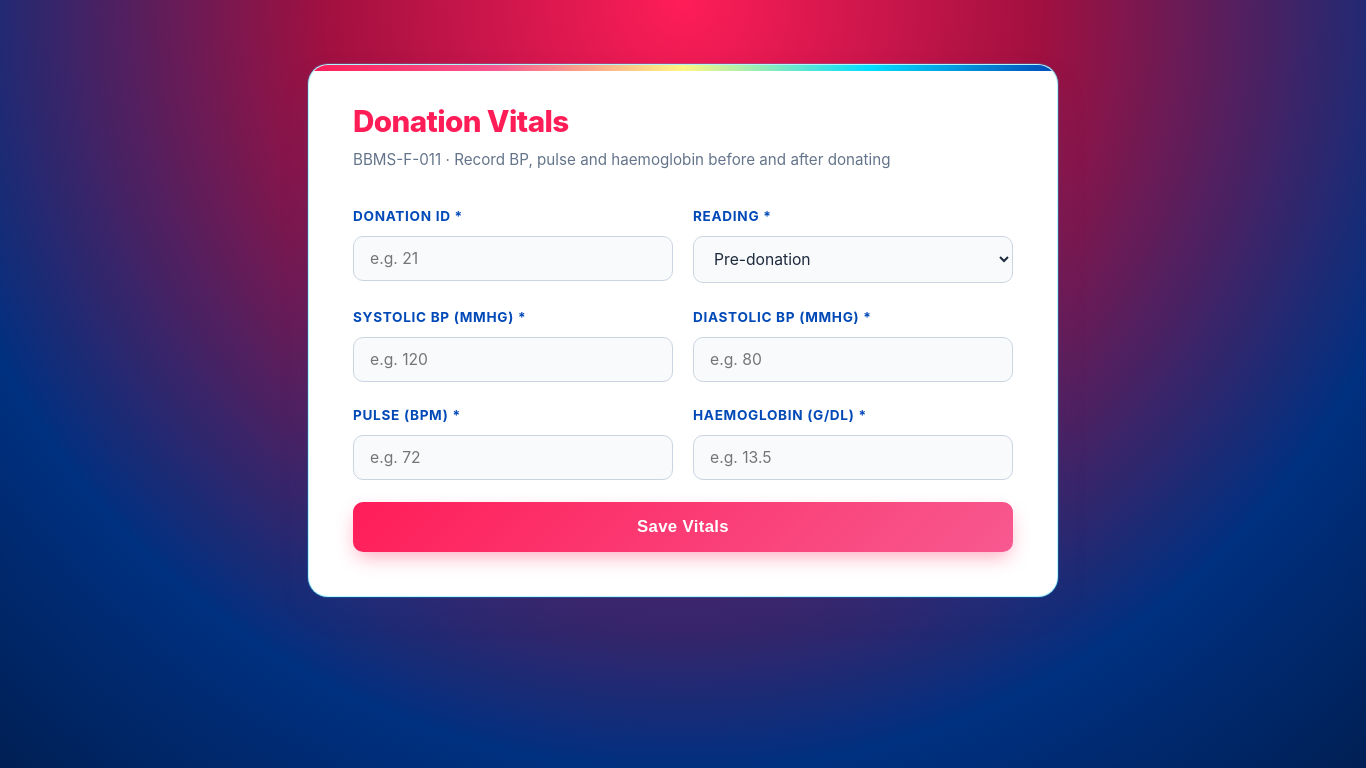
TC-Don-02: DonationVitalsForm (client) › sends post-donation vitals to the /post URL
The width and height of the screenshot is (1366, 768).
In the number field labelled "Donation ID *": x=513, y=259 x1=353 y1=236 x2=673 y2=281, type "21"
Select "Post-donation" in the dropdown labelled "Reading *": x=853, y=260 x1=693 y1=236 x2=1013 y2=283
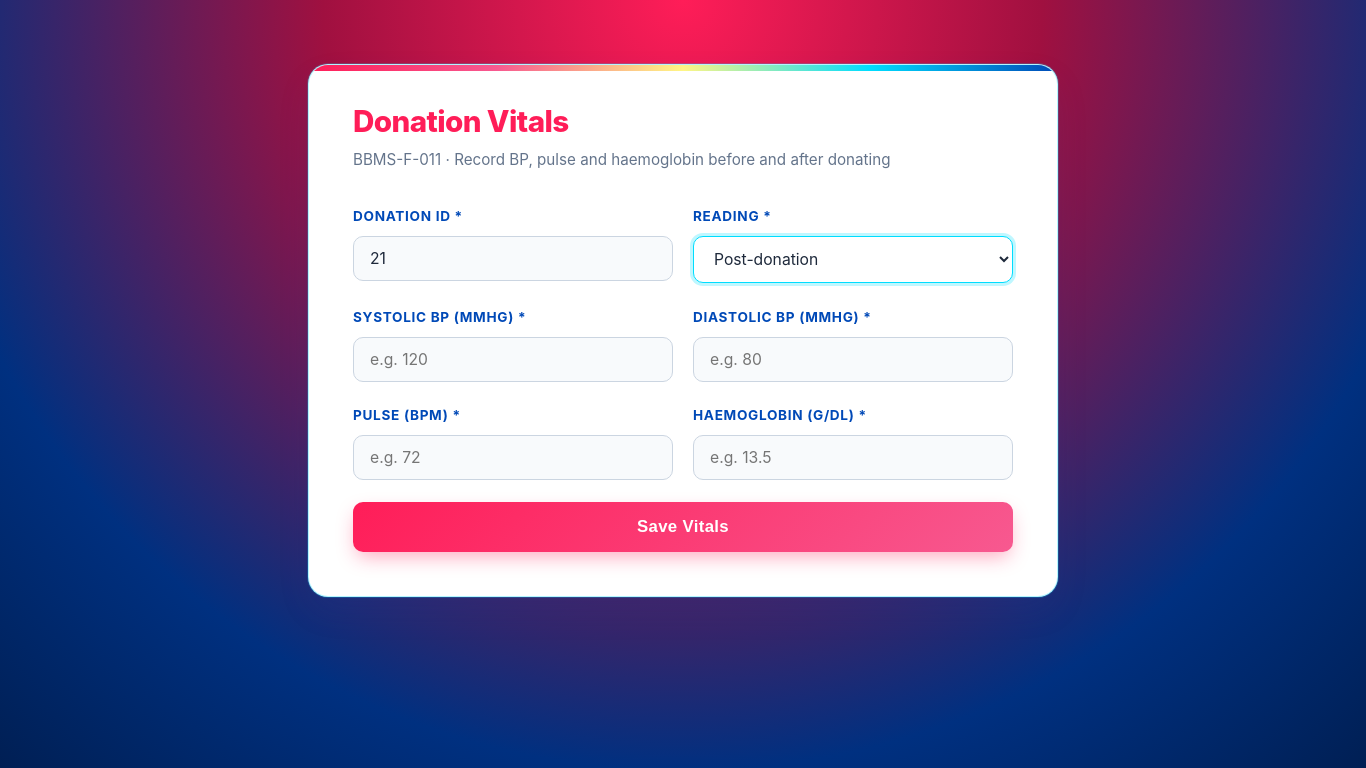
In the number field labelled "Systolic BP (mmHg) *": x=513, y=359 x1=353 y1=337 x2=673 y2=382, type "120"
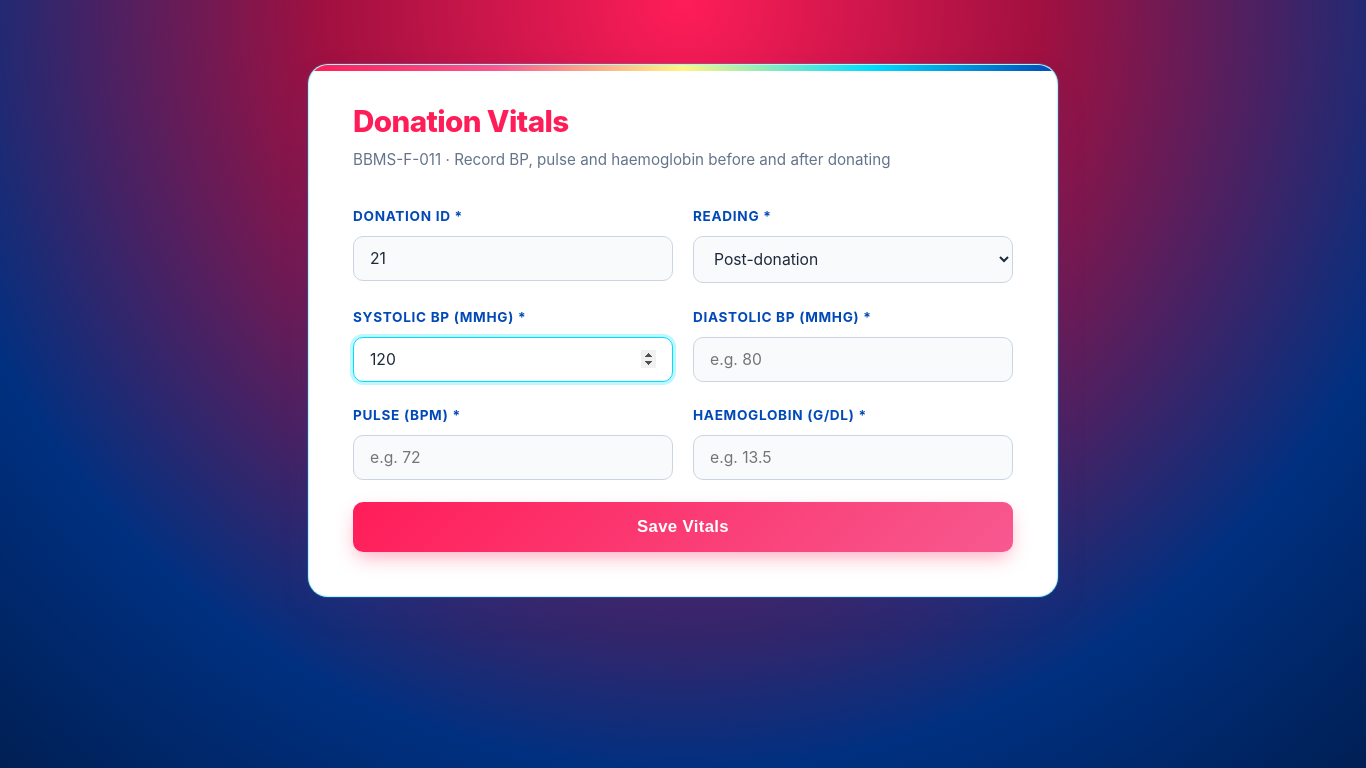
In the number field labelled "Diastolic BP (mmHg) *": x=853, y=359 x1=693 y1=337 x2=1013 y2=382, type "80"
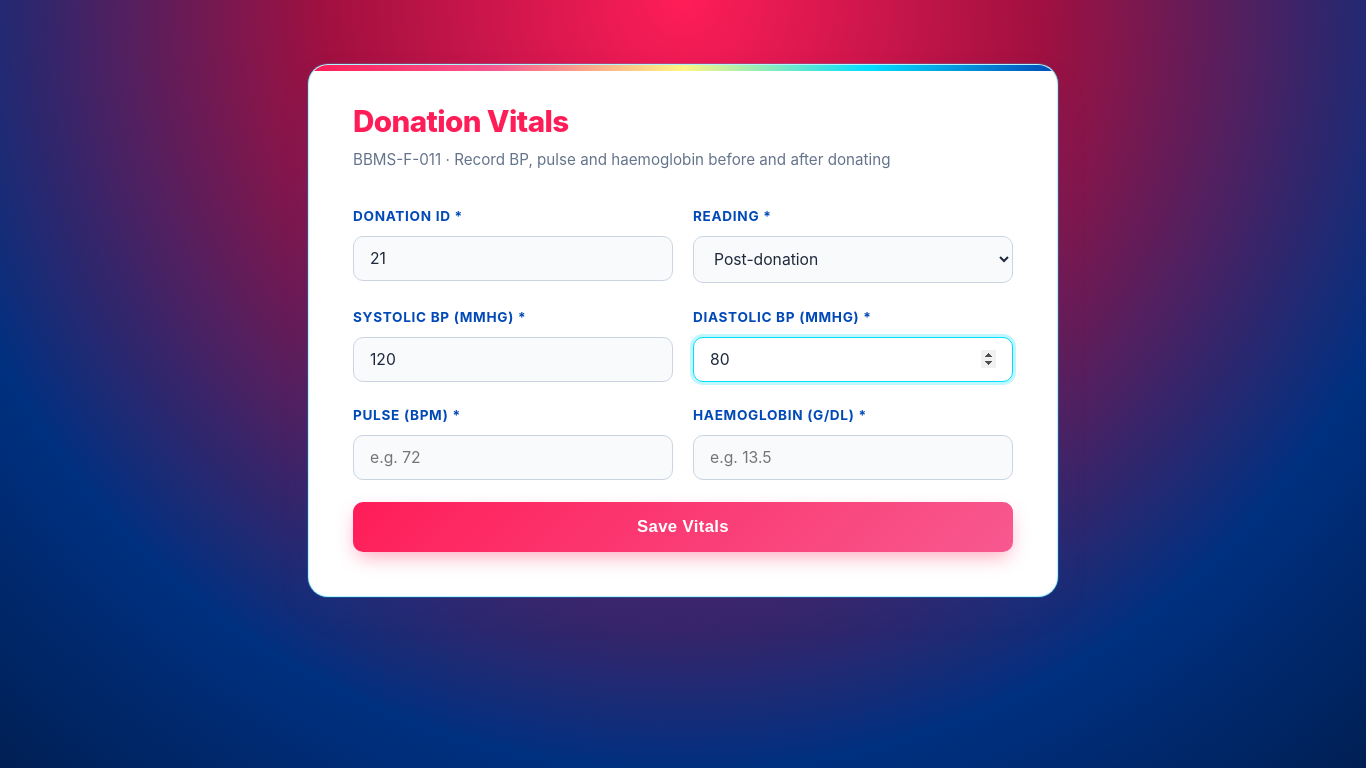
In the number field labelled "Pulse (bpm) *": x=513, y=458 x1=353 y1=435 x2=673 y2=480, type "72"
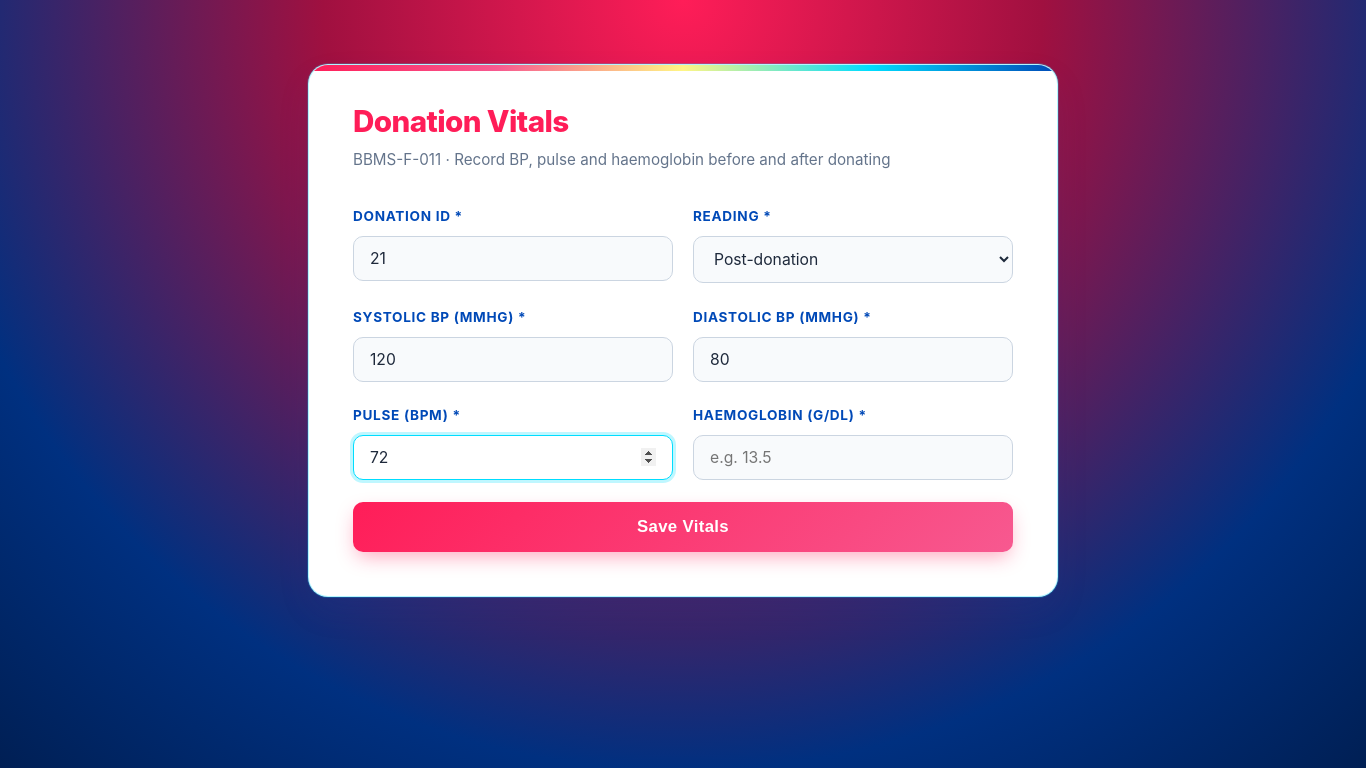
In the number field labelled "Haemoglobin (g/dL) *": x=853, y=458 x1=693 y1=435 x2=1013 y2=480, type "13.5"
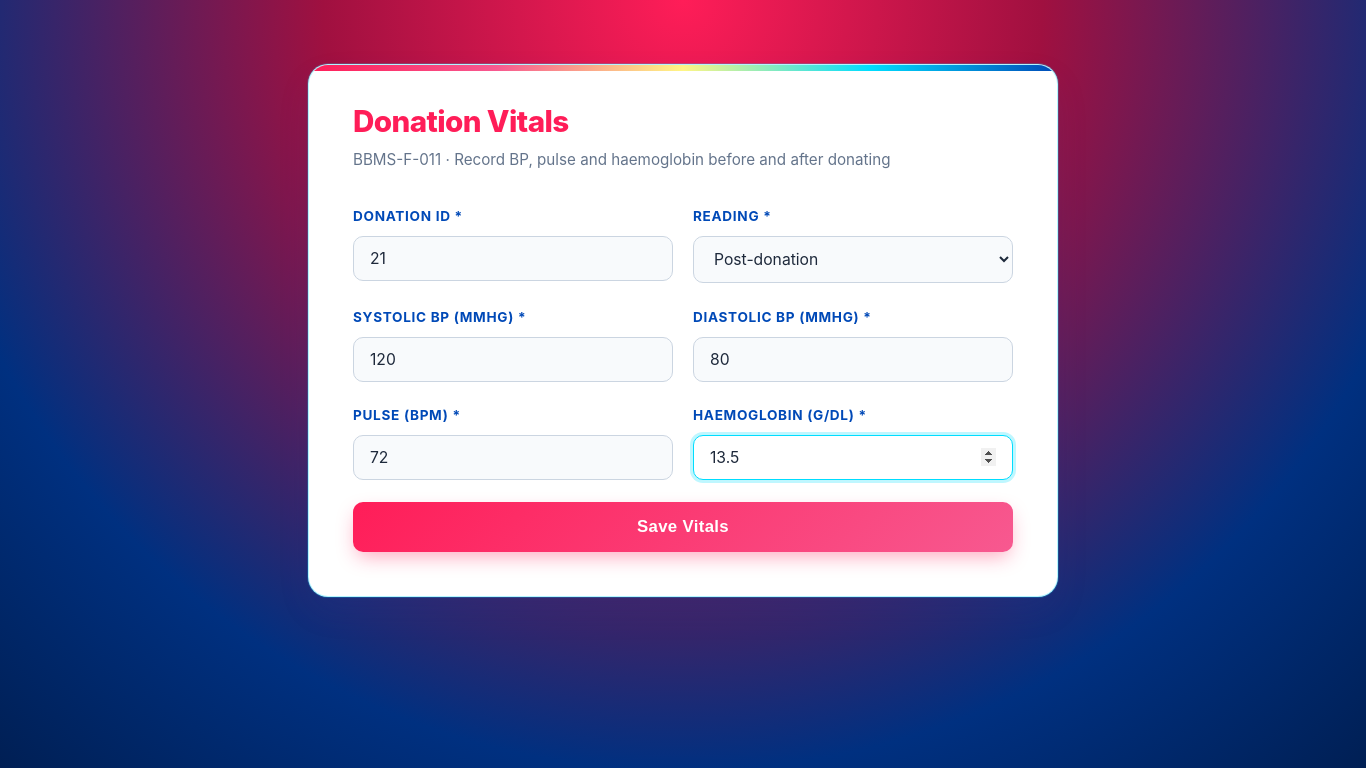
Click the button "Save Vitals": x=683, y=527 x1=353 y1=502 x2=1013 y2=552
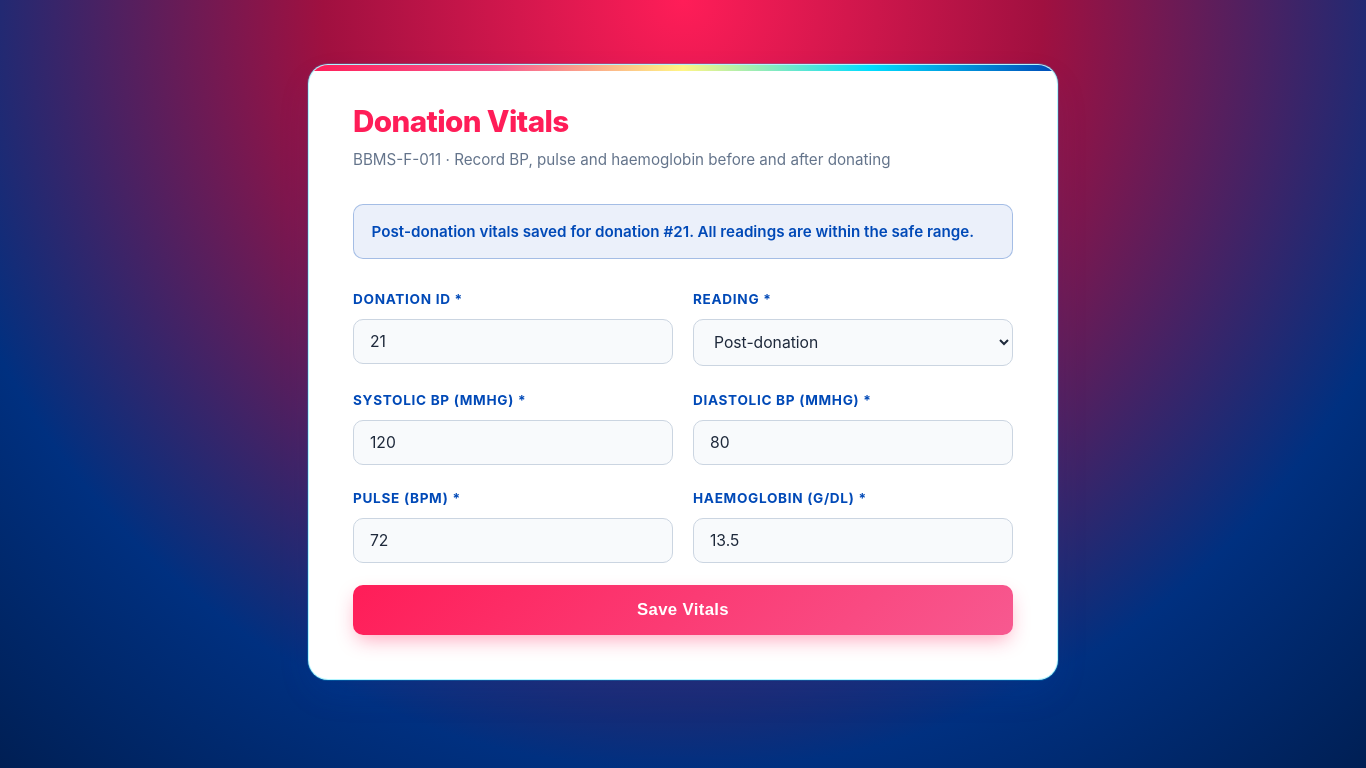
Expected: the message shows "Post-donation vitals saved", x1=353 y1=204 x2=1013 y2=259
